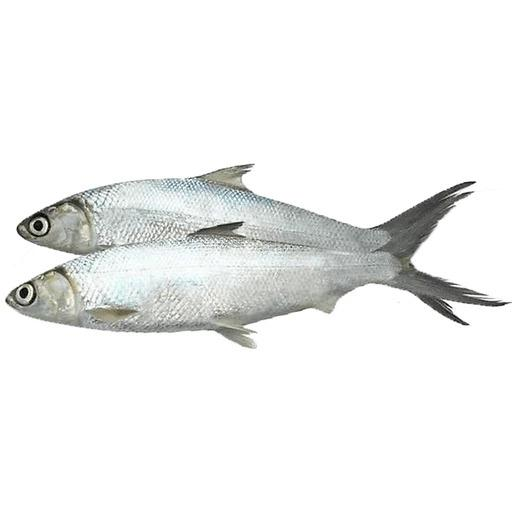Bangus: (7, 218, 489, 350), (19, 153, 476, 259)
